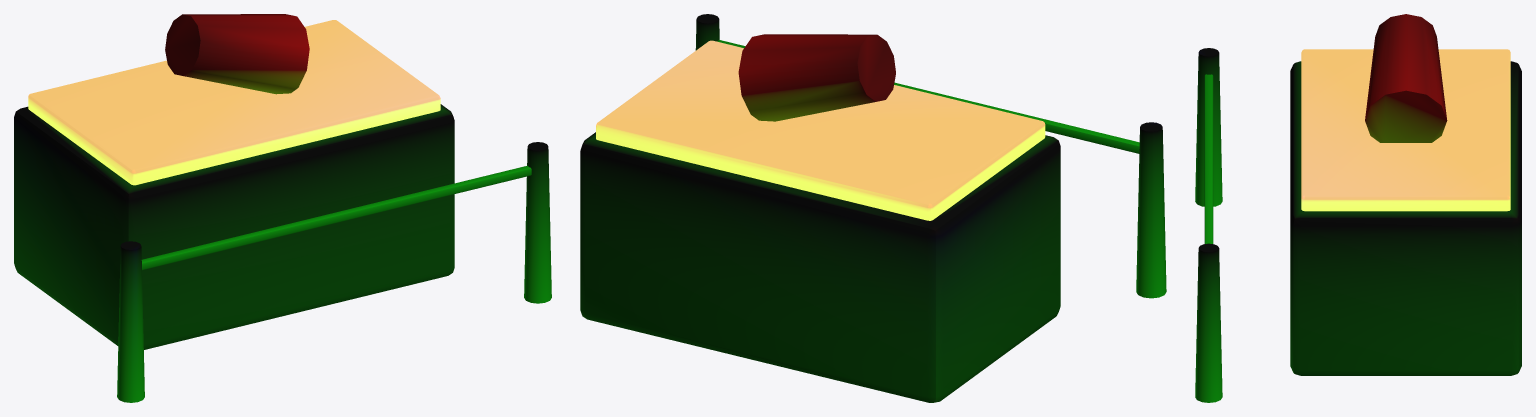
Rendered from hero_museum_pedestal.glb.
The picture shows the model from 3 angles, left to right: view 1: azimuth 30°, elevation 25°; view 2: azimuth 150°, elevation 25°; view 3: azimuth 270°, elevation 25°; orthographic projection. The views are drawn at different scales.
Visible parts, largest first — view 1: HeroMuseumPedestal; view 2: HeroMuseumPedestal; view 3: HeroMuseumPedestal.
Boxes of the visible parts, x1,y1,x2,y2 form: HeroMuseumPedestal: (14,14,551,402); HeroMuseumPedestal: (580,14,1166,402); HeroMuseumPedestal: (1195,14,1521,402).
Size of the model in its own units: 2.86 by 1.71 by 1.91.
